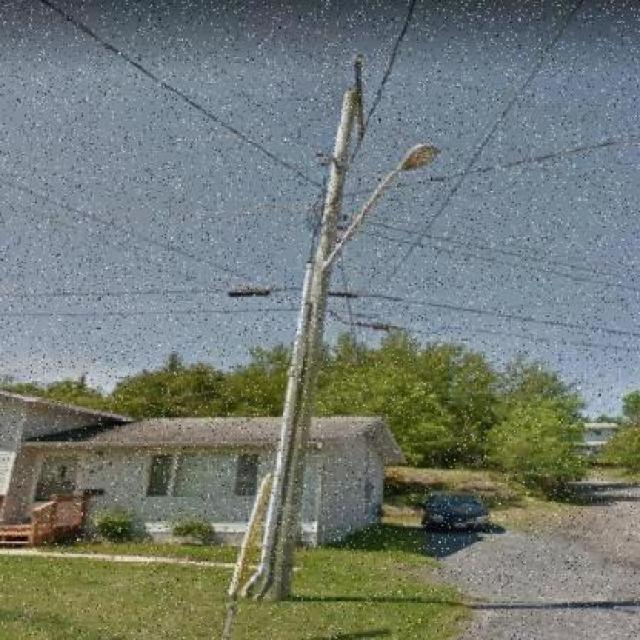pole: (213, 34, 470, 628)
